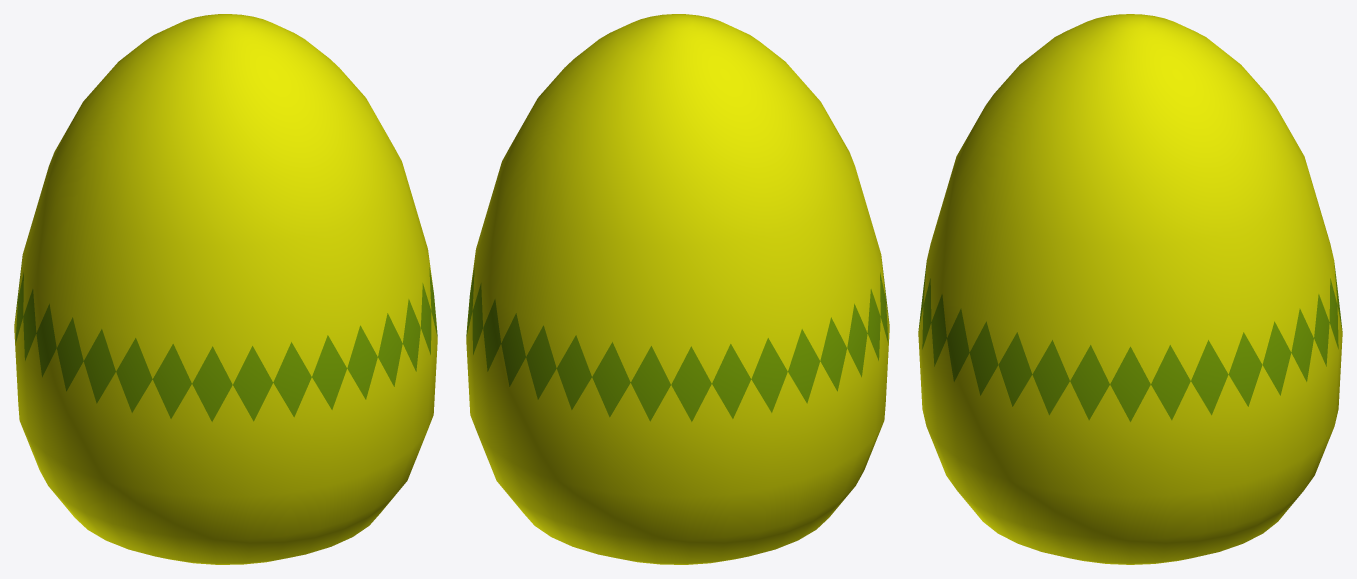
The model's file is Lightning_02.fbx.
3 views of the same model, side by side, from view 1: azimuth 30°, elevation 25°; view 2: azimuth 150°, elevation 25°; view 3: azimuth 270°, elevation 25° (orthographic).
Visible parts, largest first — view 1: Lightning_02; view 2: Lightning_02; view 3: Lightning_02.
Boxes of the visible parts, x1,y1,x2,y2 form: Lightning_02: (14,14,437,564); Lightning_02: (466,14,889,564); Lightning_02: (918,14,1342,564).
Size of the model in its own units: 315 by 417 by 315.
